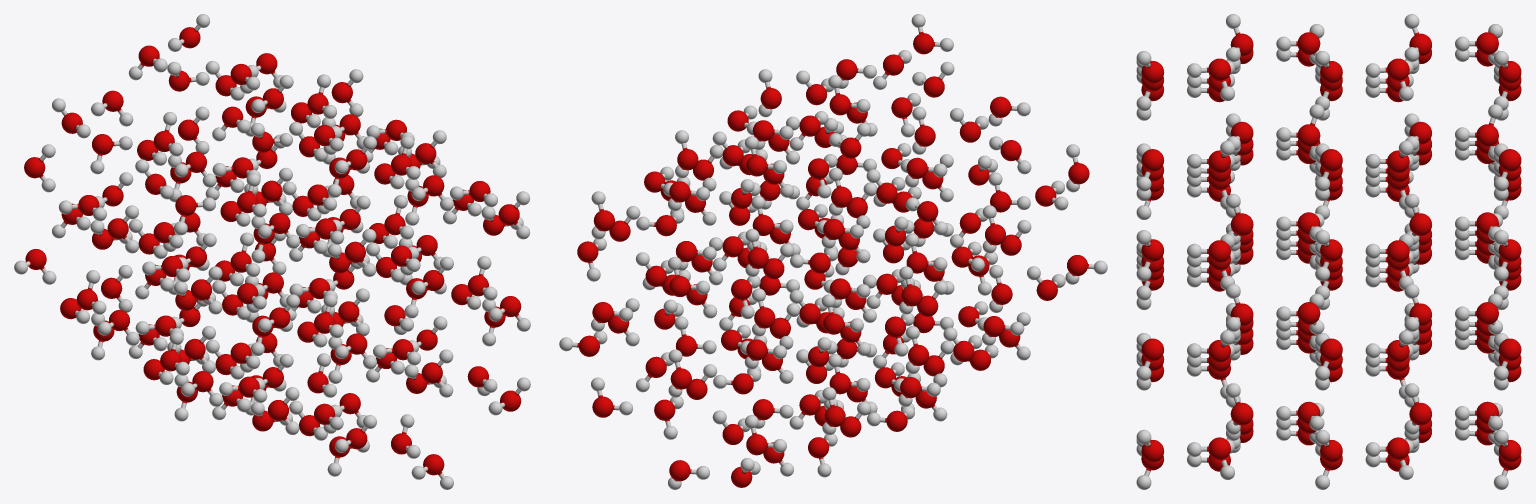
Rendered from h2o_sol.glb.
3 renders of one model, left to right at view 1: azimuth 30°, elevation 25°; view 2: azimuth 150°, elevation 25°; view 3: azimuth 270°, elevation 25°, orthographic. The views are drawn at different scales.
Visible parts, largest first — view 1: h2o_ice; view 2: h2o_ice; view 3: h2o_ice.
Boxes of the visible parts, x1,y1,x2,y2 form: h2o_ice: [14, 14, 530, 489]; h2o_ice: [559, 14, 1107, 489]; h2o_ice: [1136, 14, 1521, 489].
Size of the model in its own units: 3.89 by 3.61 by 3.17.
